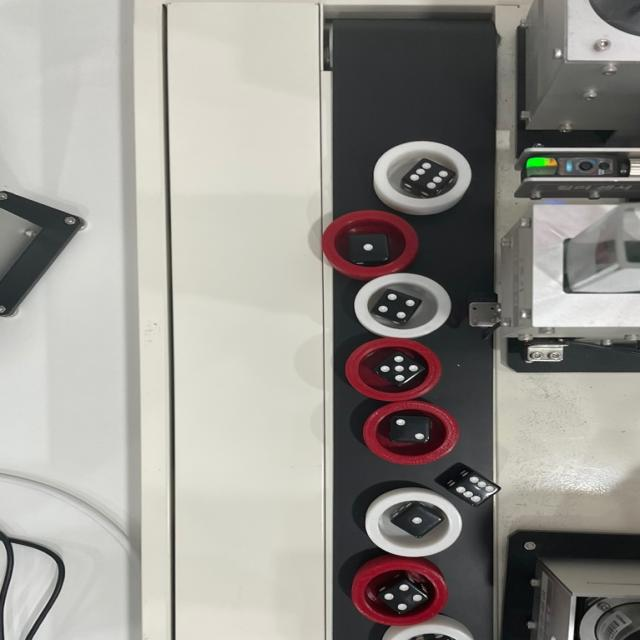DICE1: (398, 509, 436, 534), (353, 234, 386, 256)
DICE2: (389, 416, 431, 442)
DICE4: (383, 582, 426, 610), (377, 293, 418, 320)
DICE5: (376, 355, 419, 381)
DICE6: (450, 475, 499, 505), (407, 163, 448, 190)
RedChip: (346, 562, 448, 625), (343, 338, 441, 401), (321, 211, 418, 274), (364, 402, 456, 465)
WhiteChip: (375, 137, 473, 213), (366, 491, 461, 557), (353, 274, 451, 337), (380, 624, 480, 640)
